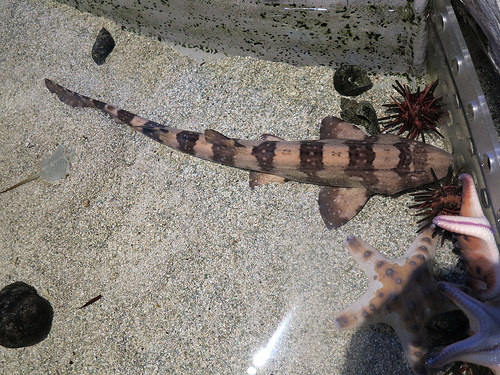shark: (29, 50, 469, 231)
